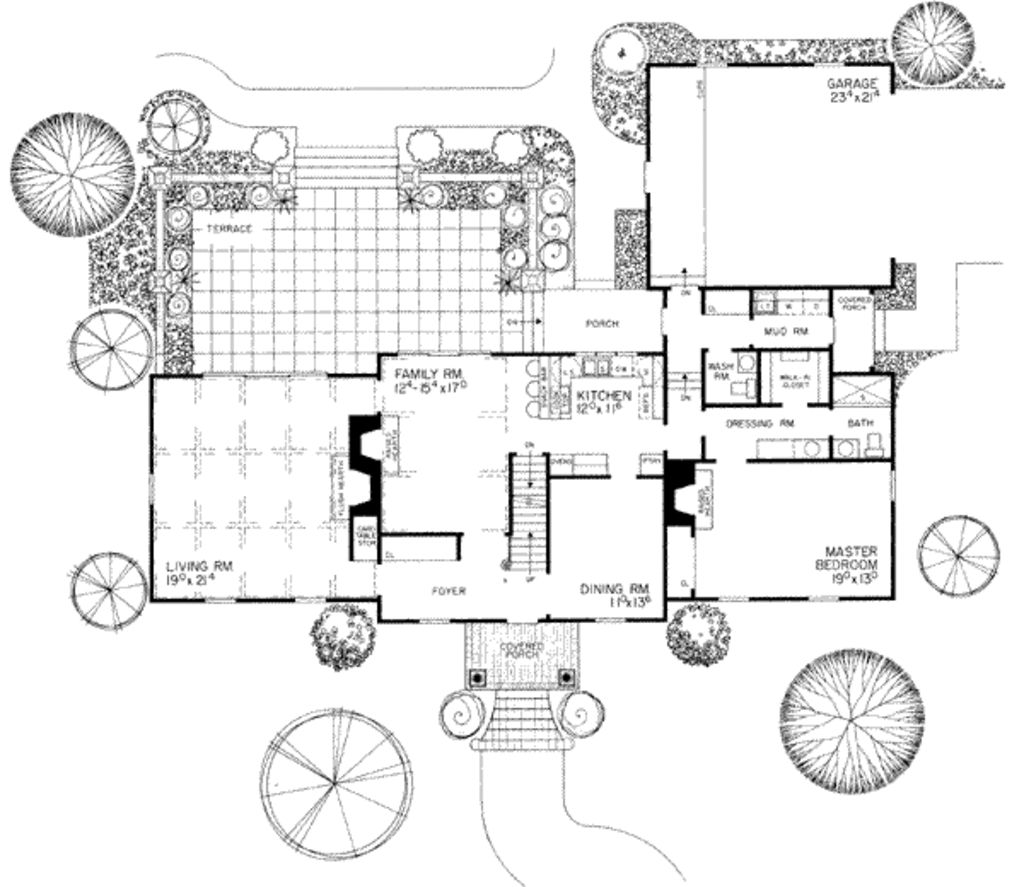kitchen_bar: (521, 348, 576, 427)
large_sink: (721, 372, 760, 398), (862, 425, 889, 458)
stairs: (464, 686, 578, 756), (508, 440, 553, 578)
windows: (142, 467, 156, 509)
